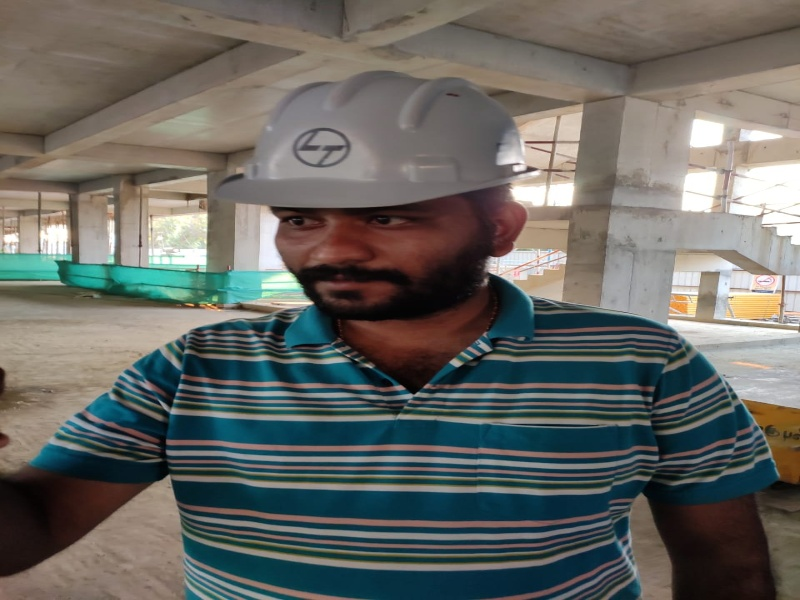Face: (244, 73, 533, 215)
